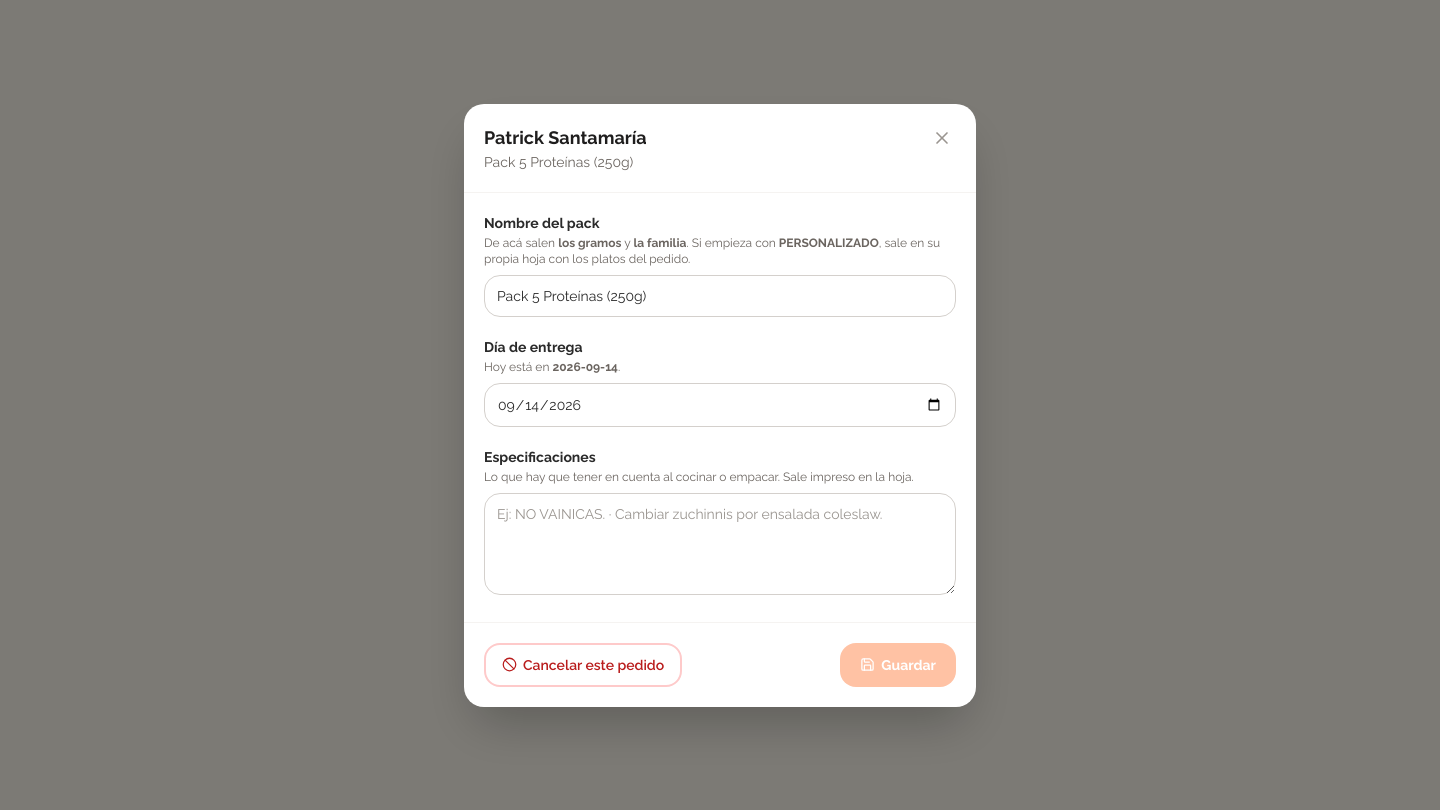
el nombre del pack › avisa que cambiar el nombre cambia cuánto se cocina
The image size is (1440, 810).
Replace the text in the field labelled "Nombre del pack" with "PERSONALIZADO — Patrick (500 g)": [720, 296] box [484,274,956,316]
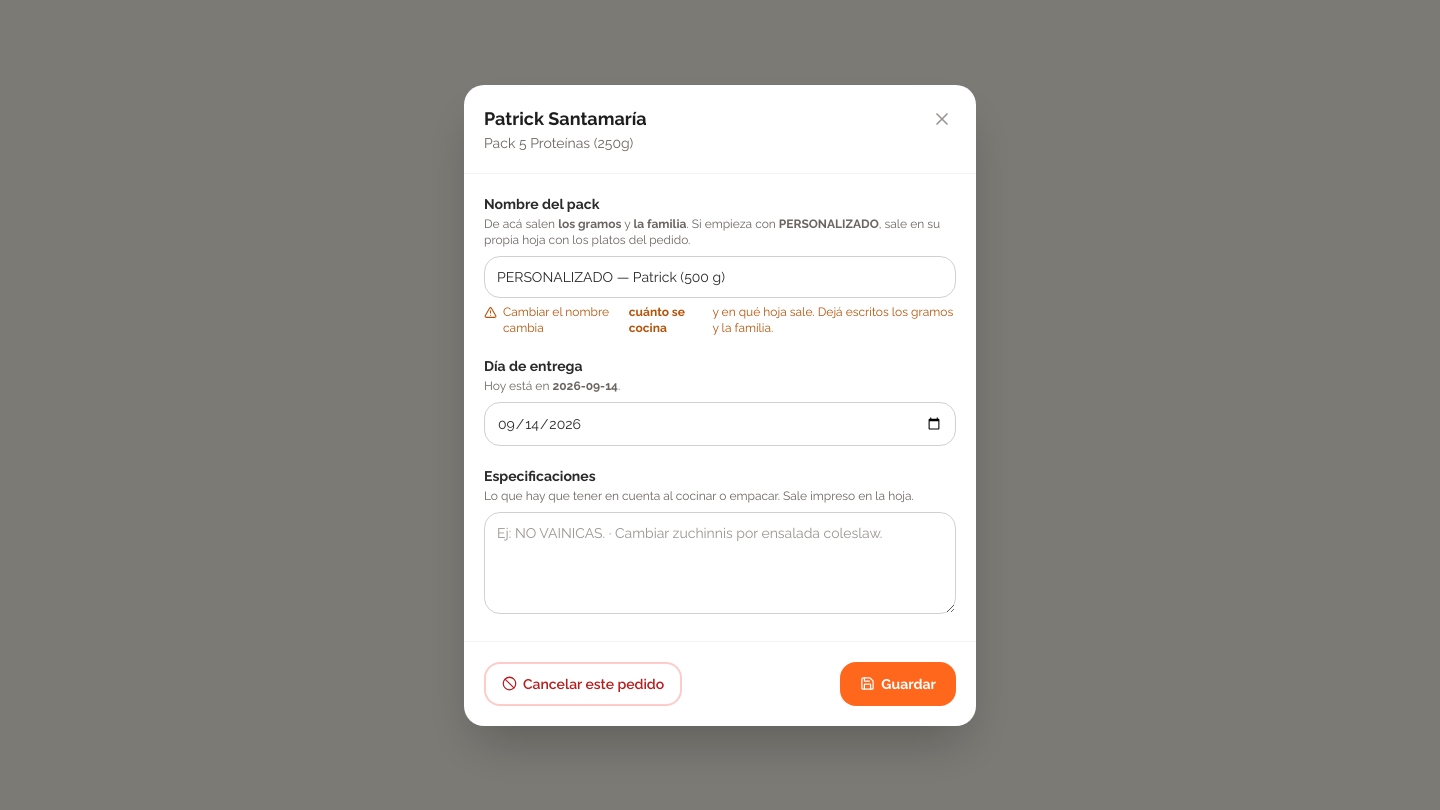
expect the text "cuánto se cocina" is shown: met, box [629,304,685,334]
